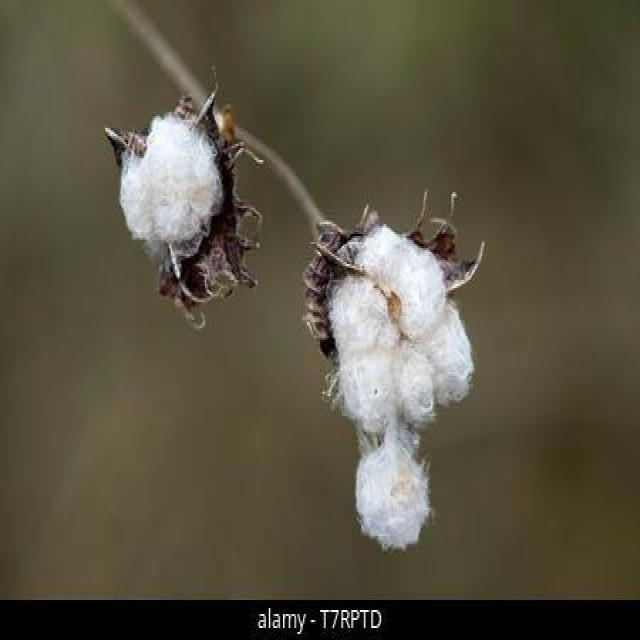Late_blight: (306, 218, 482, 548), (105, 96, 262, 317)
